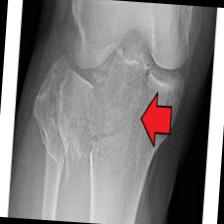impacted-fracture: (7, 0, 215, 224)
